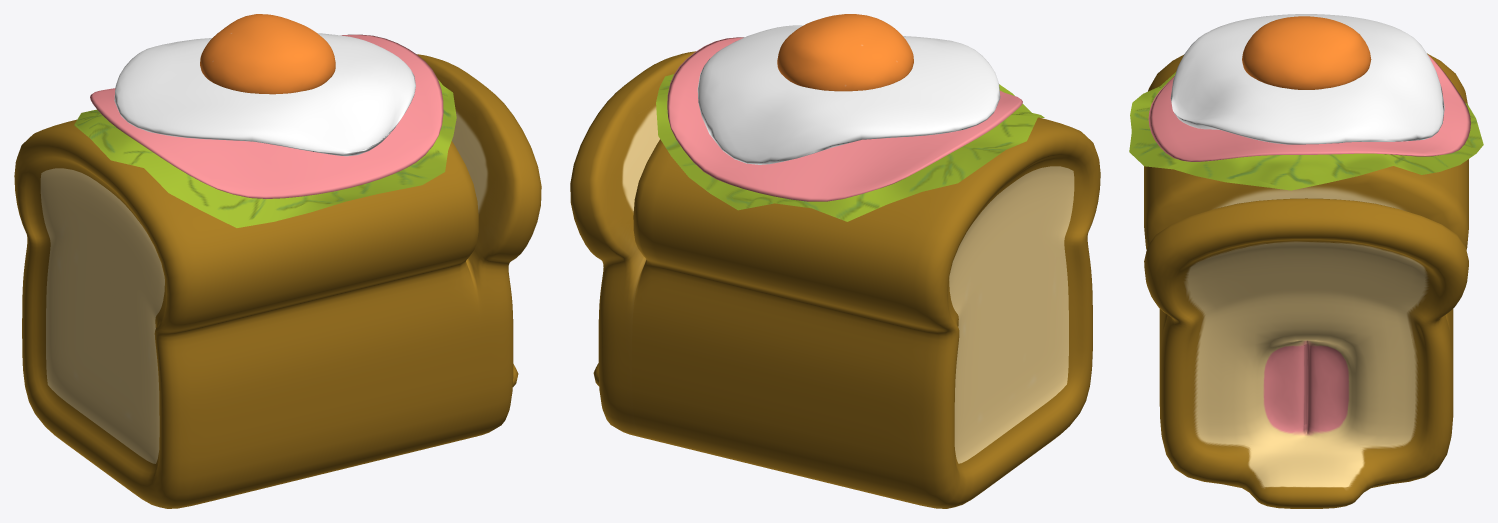
Rendered from Bread3.fbx.
3 views of the same model, side by side, from view 1: azimuth 30°, elevation 25°; view 2: azimuth 150°, elevation 25°; view 3: azimuth 270°, elevation 25° (orthographic). The views are drawn at different scales.
Visible parts, largest first — view 1: Cube, Icosphere, Plane.001, Plane, Icosphere.001; view 2: Cube, Icosphere, Plane.001, Plane, Icosphere.001; view 3: Cube, Icosphere, Plane, Plane.001, Icosphere.001.
Part boxes in pixels (x1=…): Cube: x1=14, y1=54, x2=541, y2=508; Icosphere: x1=114, y1=33, x2=415, y2=156; Plane.001: x1=90, y1=34, x2=443, y2=198; Plane: x1=74, y1=79, x2=456, y2=227; Icosphere.001: x1=200, y1=14, x2=335, y2=94; Cube: x1=570, y1=51, x2=1100, y2=508; Icosphere: x1=697, y1=25, x2=1000, y2=164; Plane.001: x1=667, y1=37, x2=1022, y2=201; Plane: x1=656, y1=74, x2=1044, y2=221; Icosphere.001: x1=777, y1=14, x2=913, y2=91; Cube: x1=1144, y1=53, x2=1468, y2=508; Icosphere: x1=1170, y1=14, x2=1444, y2=144; Plane: x1=1129, y1=72, x2=1483, y2=190; Plane.001: x1=1148, y1=55, x2=1470, y2=161; Icosphere.001: x1=1242, y1=16, x2=1371, y2=89.
Size of the model in its own units: 306 by 290 by 241.
1 material, 1 textured.
